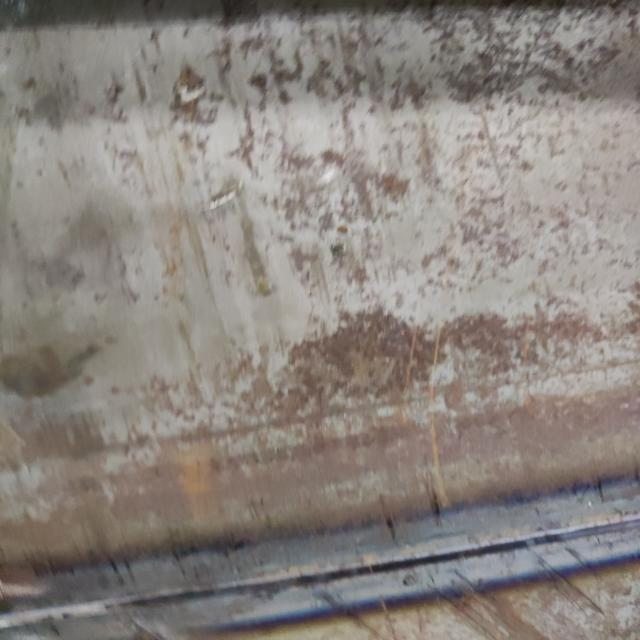seam: (0, 458, 640, 640)
